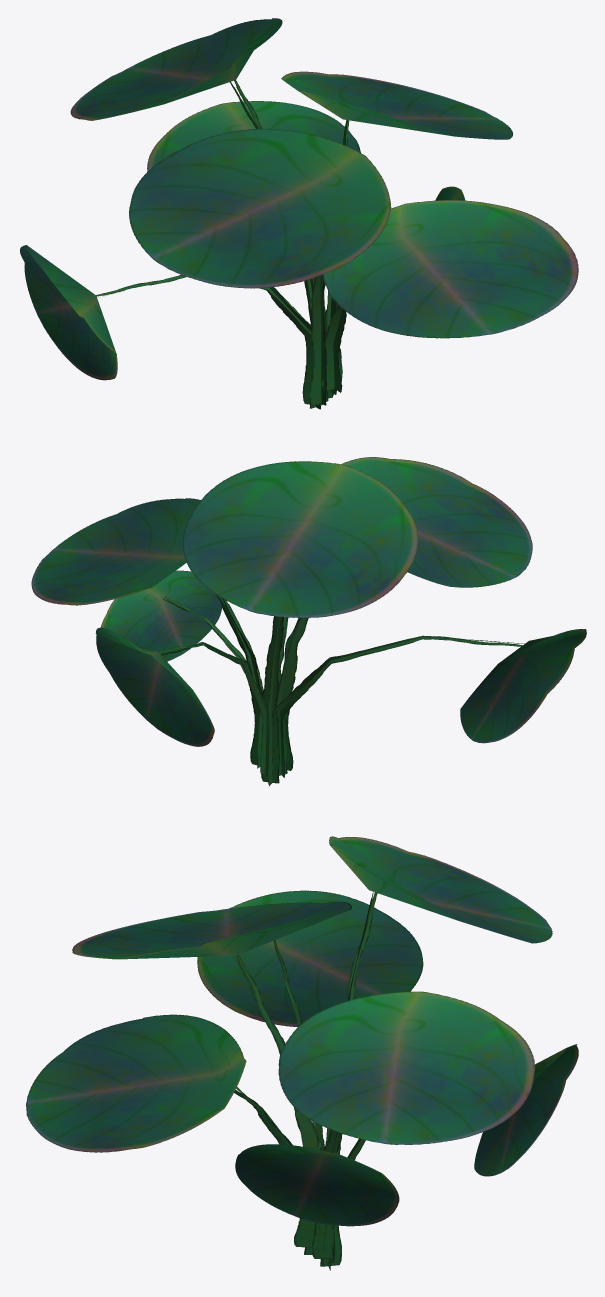
Rendered from S_Nenuphar.fbx.
3 views of the same model, one above another, from view 1: azimuth 30°, elevation 25°; view 2: azimuth 150°, elevation 25°; view 3: azimuth 270°, elevation 25° (orthographic). The views are drawn at different scales.
Parts seen in each view (by area): view 1: S_foliage_nenuphar; view 2: S_foliage_nenuphar; view 3: S_foliage_nenuphar.
Boxes of the visible parts, bbox=[...] form: S_foliage_nenuphar: bbox=[20, 18, 578, 409]; S_foliage_nenuphar: bbox=[31, 457, 586, 786]; S_foliage_nenuphar: bbox=[26, 836, 578, 1270].
Bounding box in the file's own units: 39.48 × 36.67 × 27.54.
